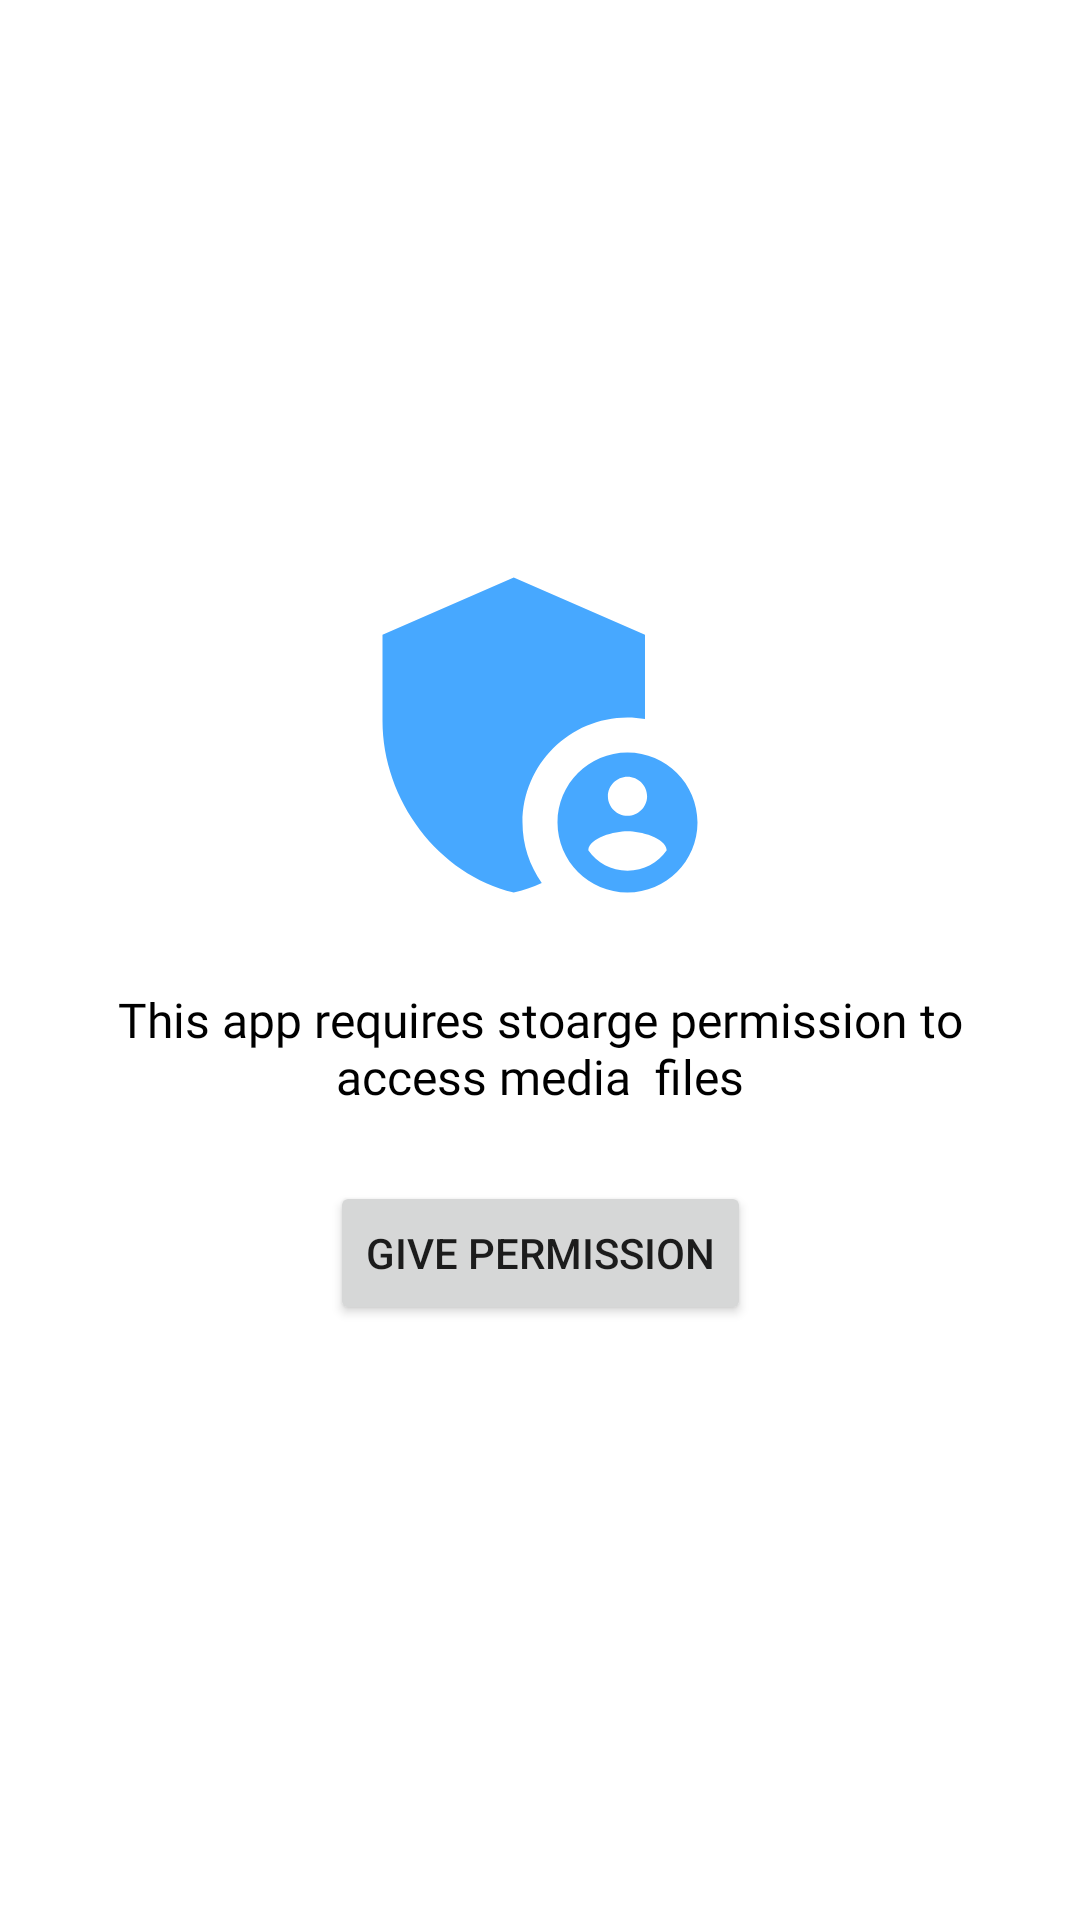

Point at icon controls on the screen. Image size 1080w x 1920h, points as (x,y).
admin panel settings: (540,735)
